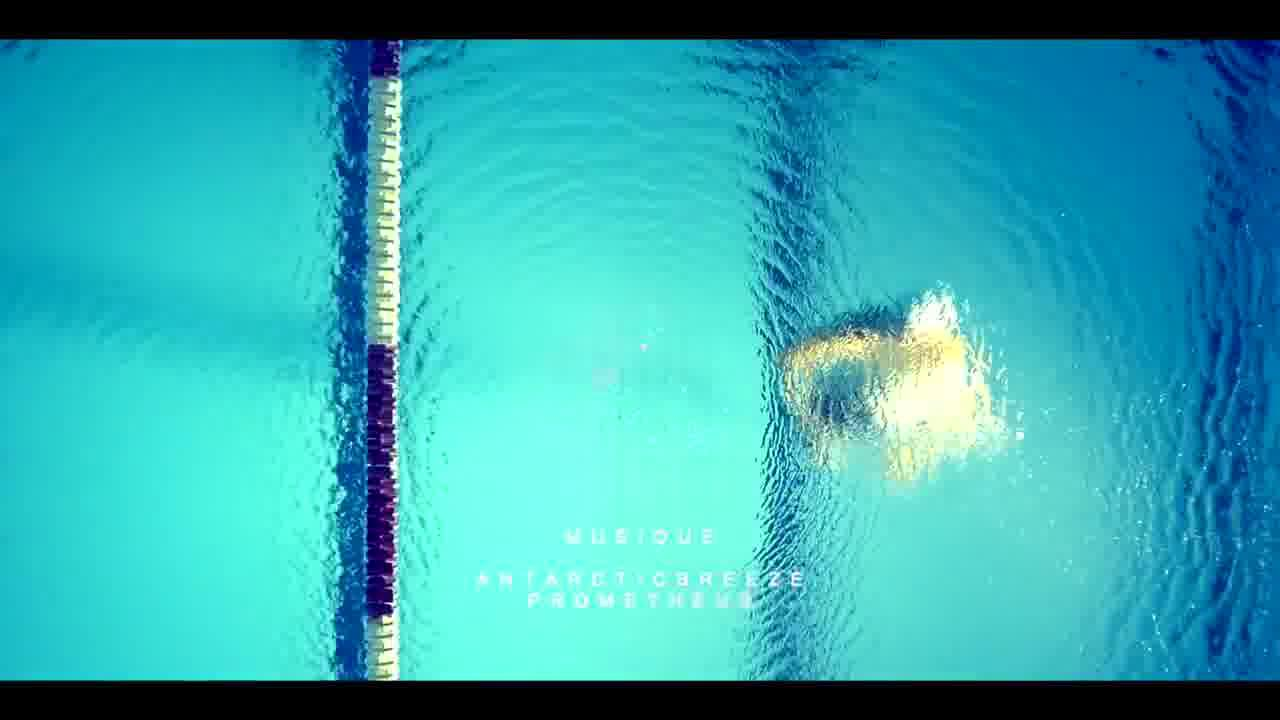human: (742, 281, 1040, 495)
